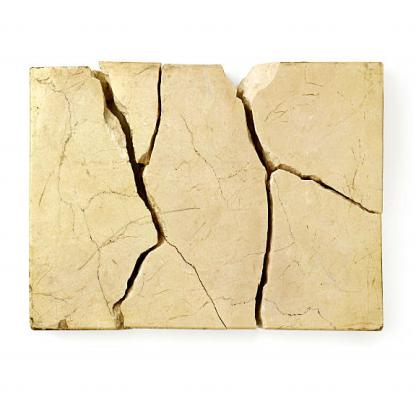Metamorphic_Marble: (23, 40, 390, 334)
